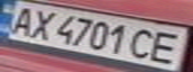0: (87, 19, 112, 53)
1: (106, 21, 133, 56)
4: (48, 12, 78, 45)
7: (69, 16, 93, 48)
A: (3, 3, 42, 36)
C: (124, 27, 163, 61)
E: (142, 28, 193, 66)
X: (21, 7, 60, 40)
